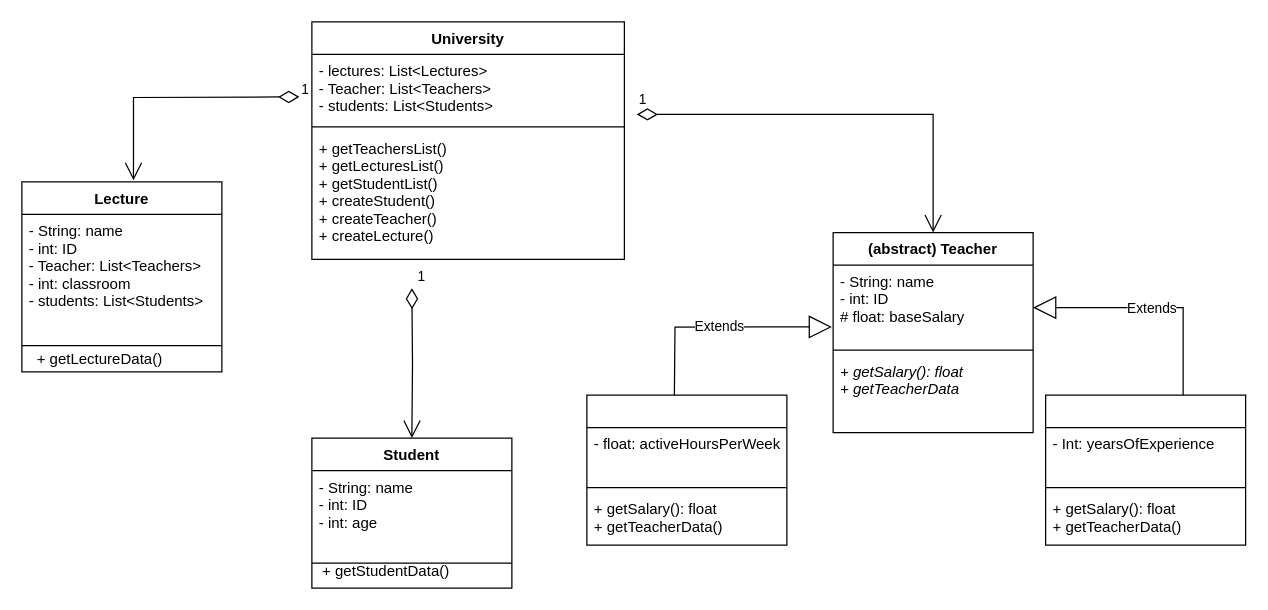
The diagram is 1268 pixels wide and 610 high, and some of its shapes have lost their labels. Each missing label, with the box of its shape:
Full-time teacher: (1044, 394, 1246, 545)
Part-time teacher: (586, 394, 787, 545)
